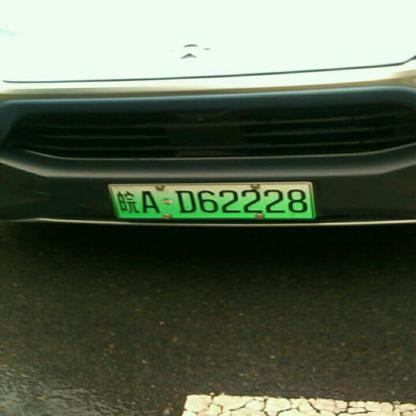lp: (112, 182, 312, 218)
